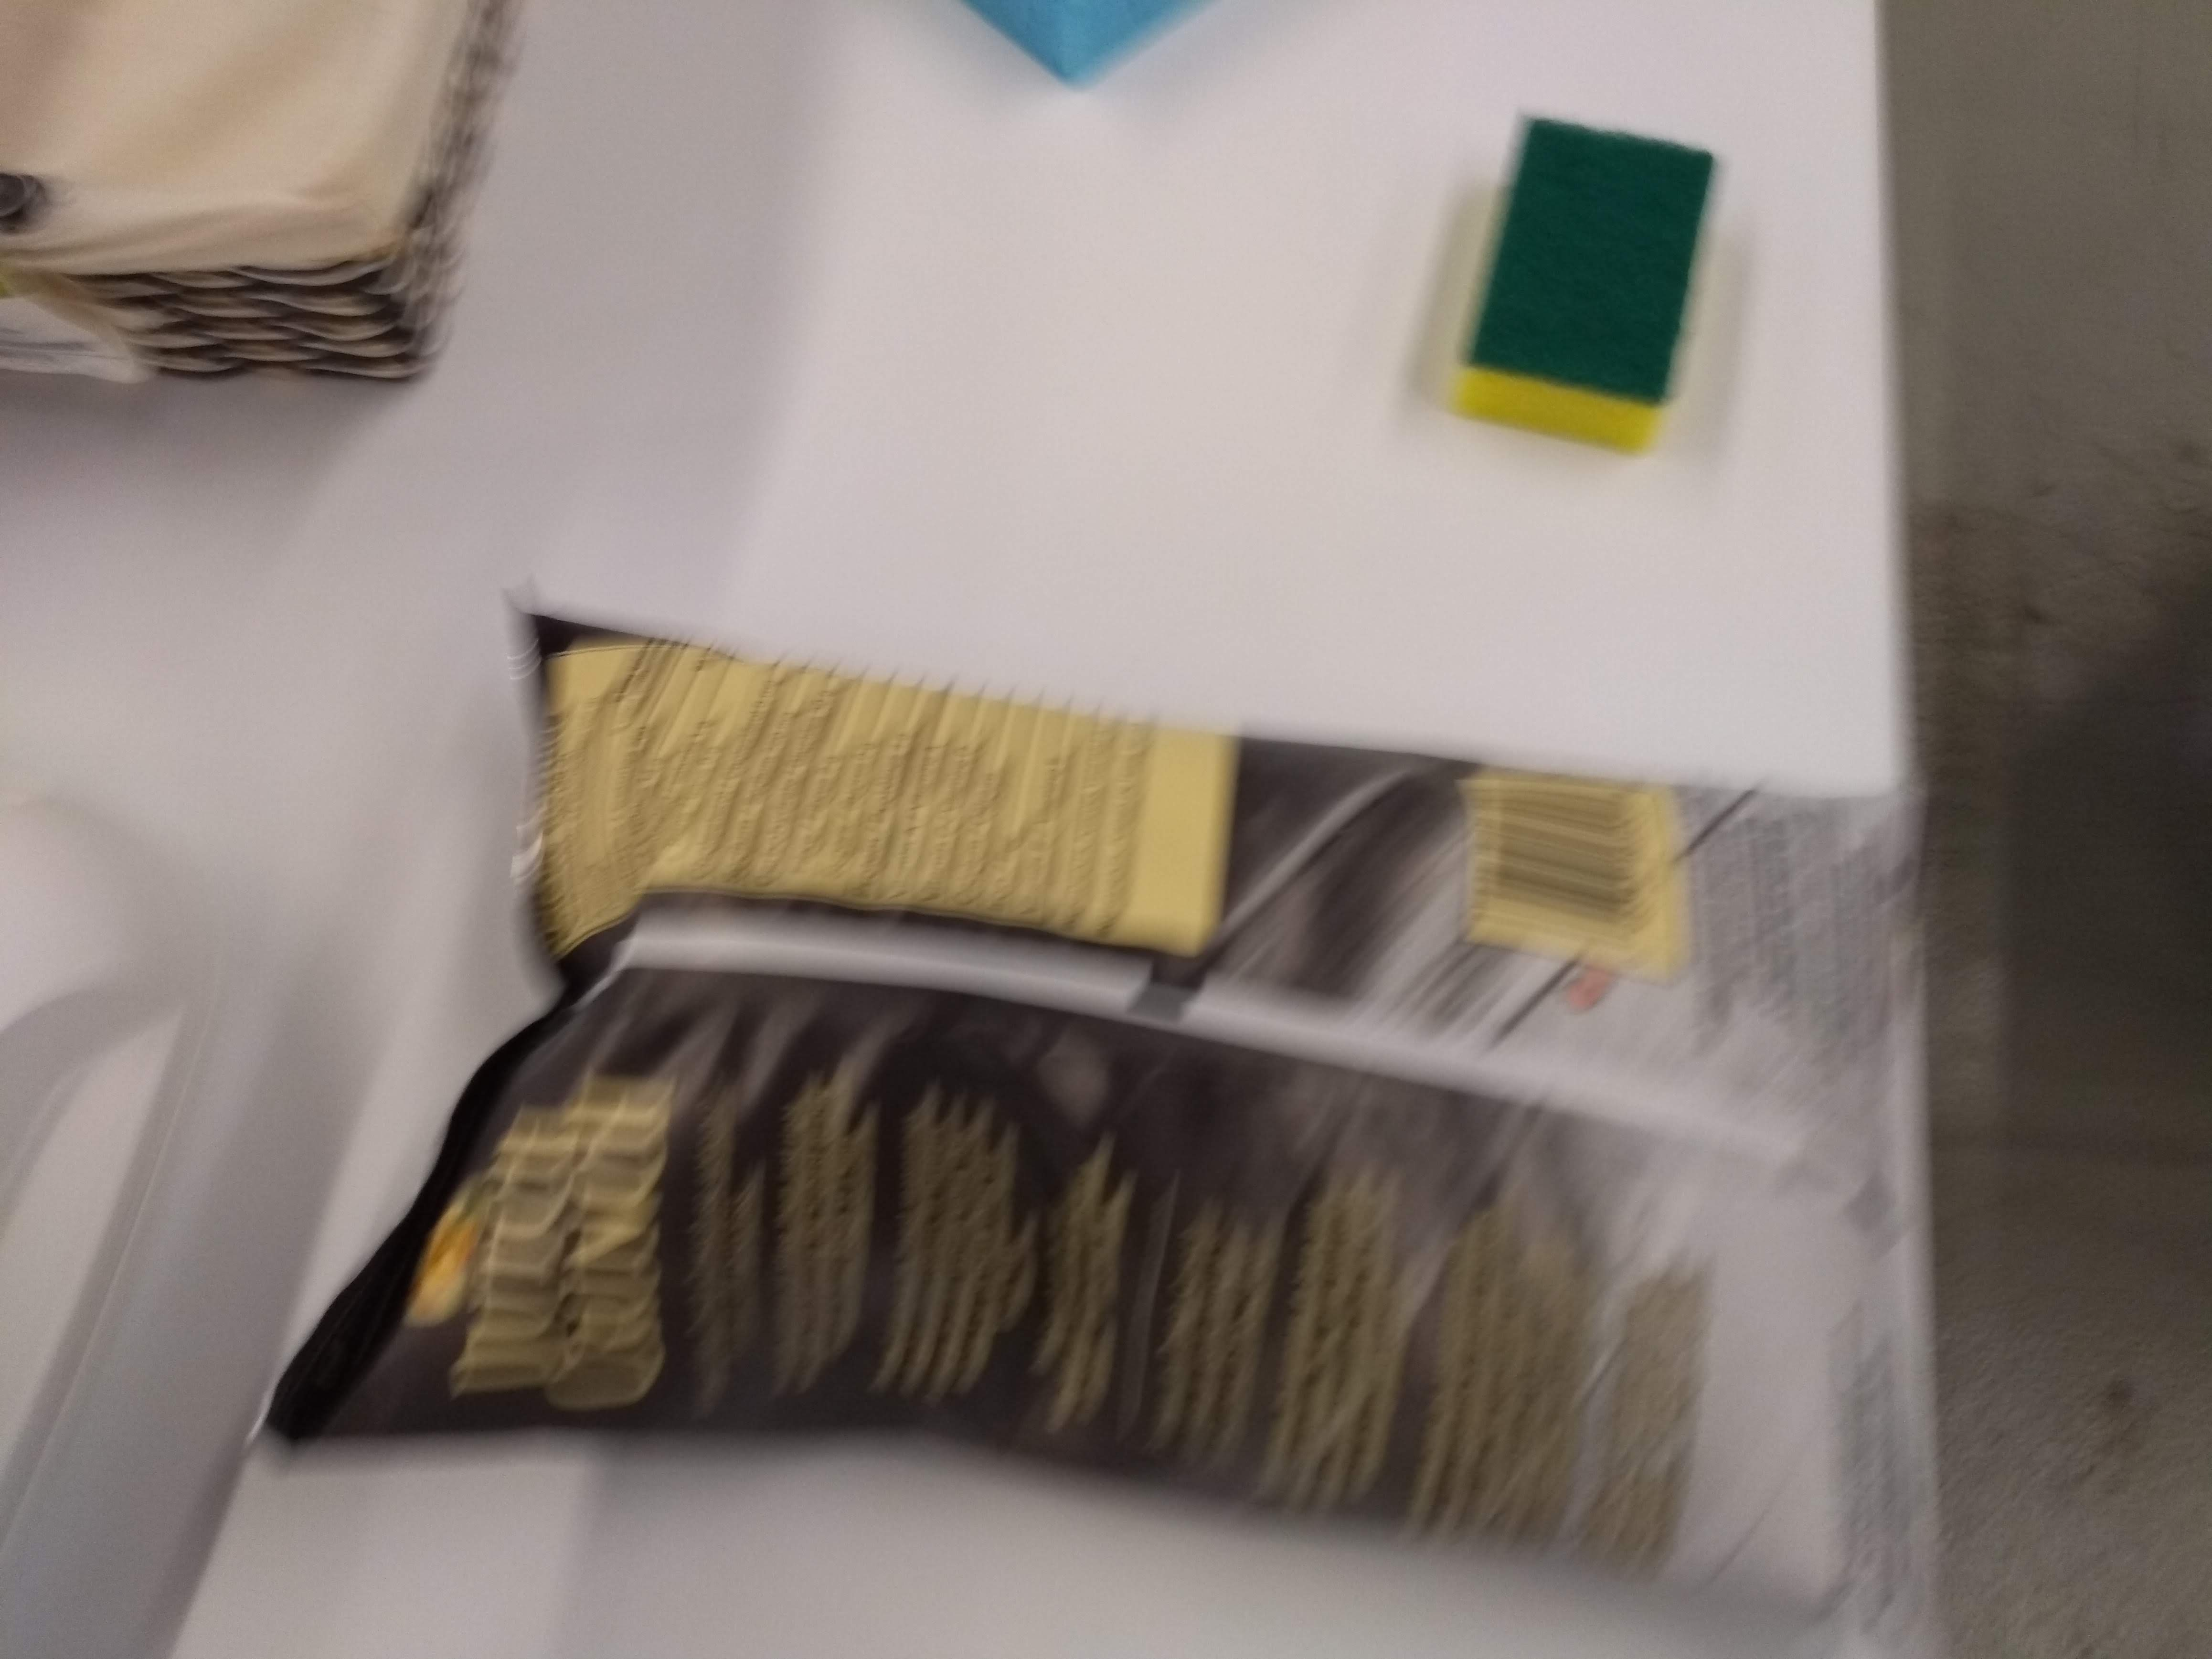potato_chips: (232, 582, 1975, 1656)
scrubby: (1435, 101, 1731, 464)
